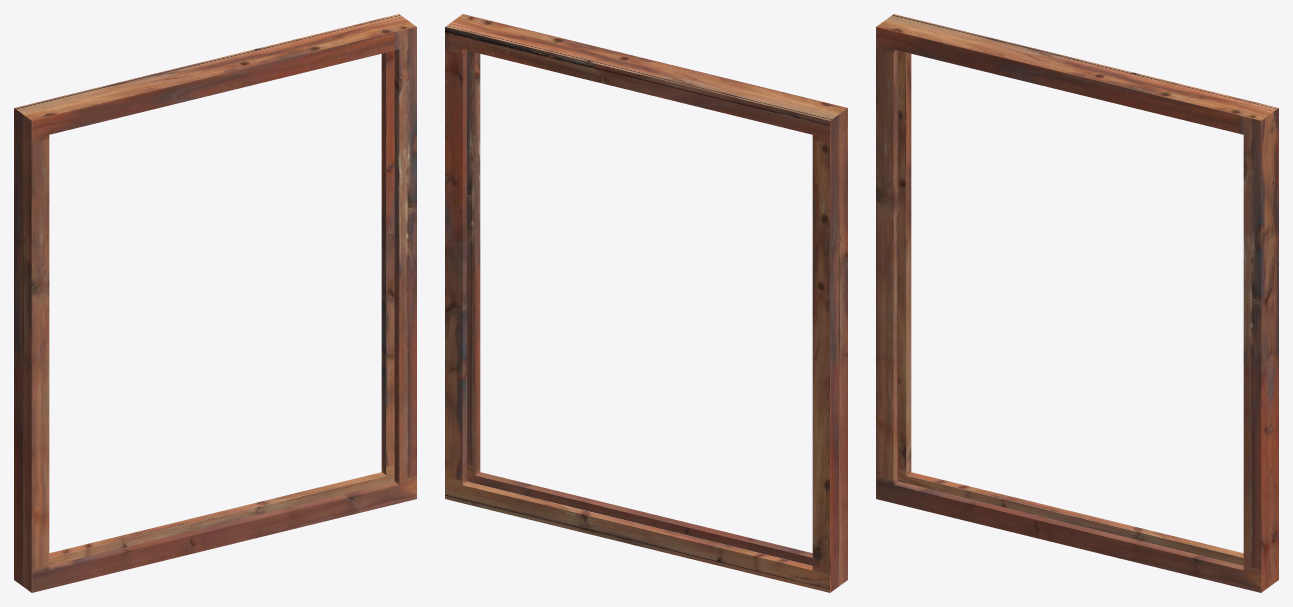
File: Window.FBX
3 renders of one model, left to right at view 1: azimuth 30°, elevation 25°; view 2: azimuth 150°, elevation 25°; view 3: azimuth 330°, elevation 25°, orthographic.
Parts seen in each view (by area): view 1: Box104; view 2: Box104; view 3: Box104.
Boxes of the visible parts, <box> form: Box104: <box>14,14,416,592</box>; Box104: <box>445,14,847,592</box>; Box104: <box>876,14,1278,592</box>.
Size of the model in its own units: 113 by 133 by 9.
Materials: 1 (1 with a texture image).
